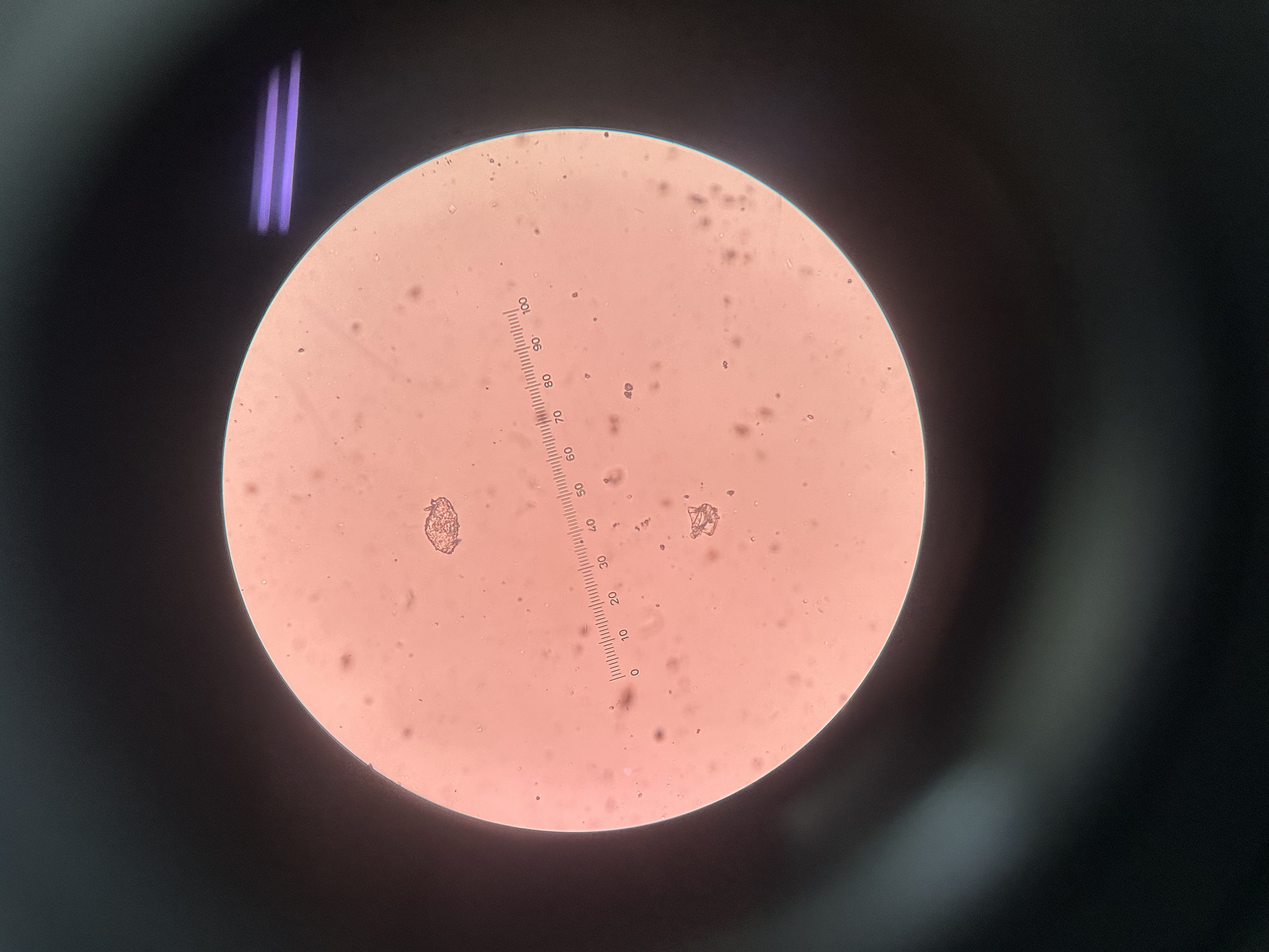not_microplastic: (416, 490, 467, 553), (680, 503, 721, 535), (620, 379, 636, 398)
